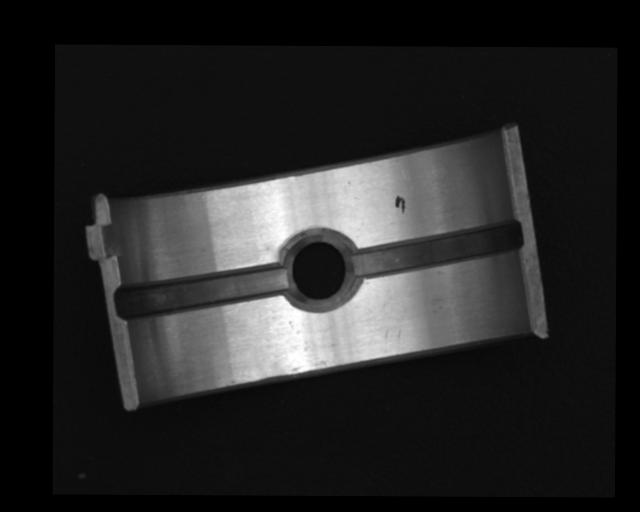blot: (395, 194, 406, 214)
gap: (115, 261, 291, 321), (352, 221, 521, 282)
hole: (286, 233, 357, 309)
